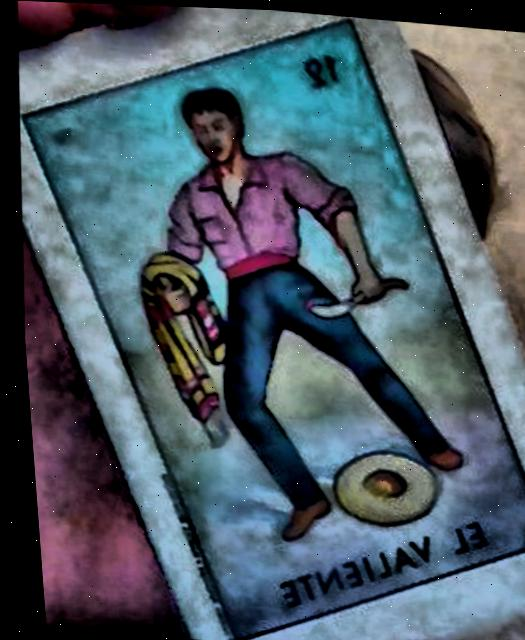El Valiente: (18, 18, 525, 638)
